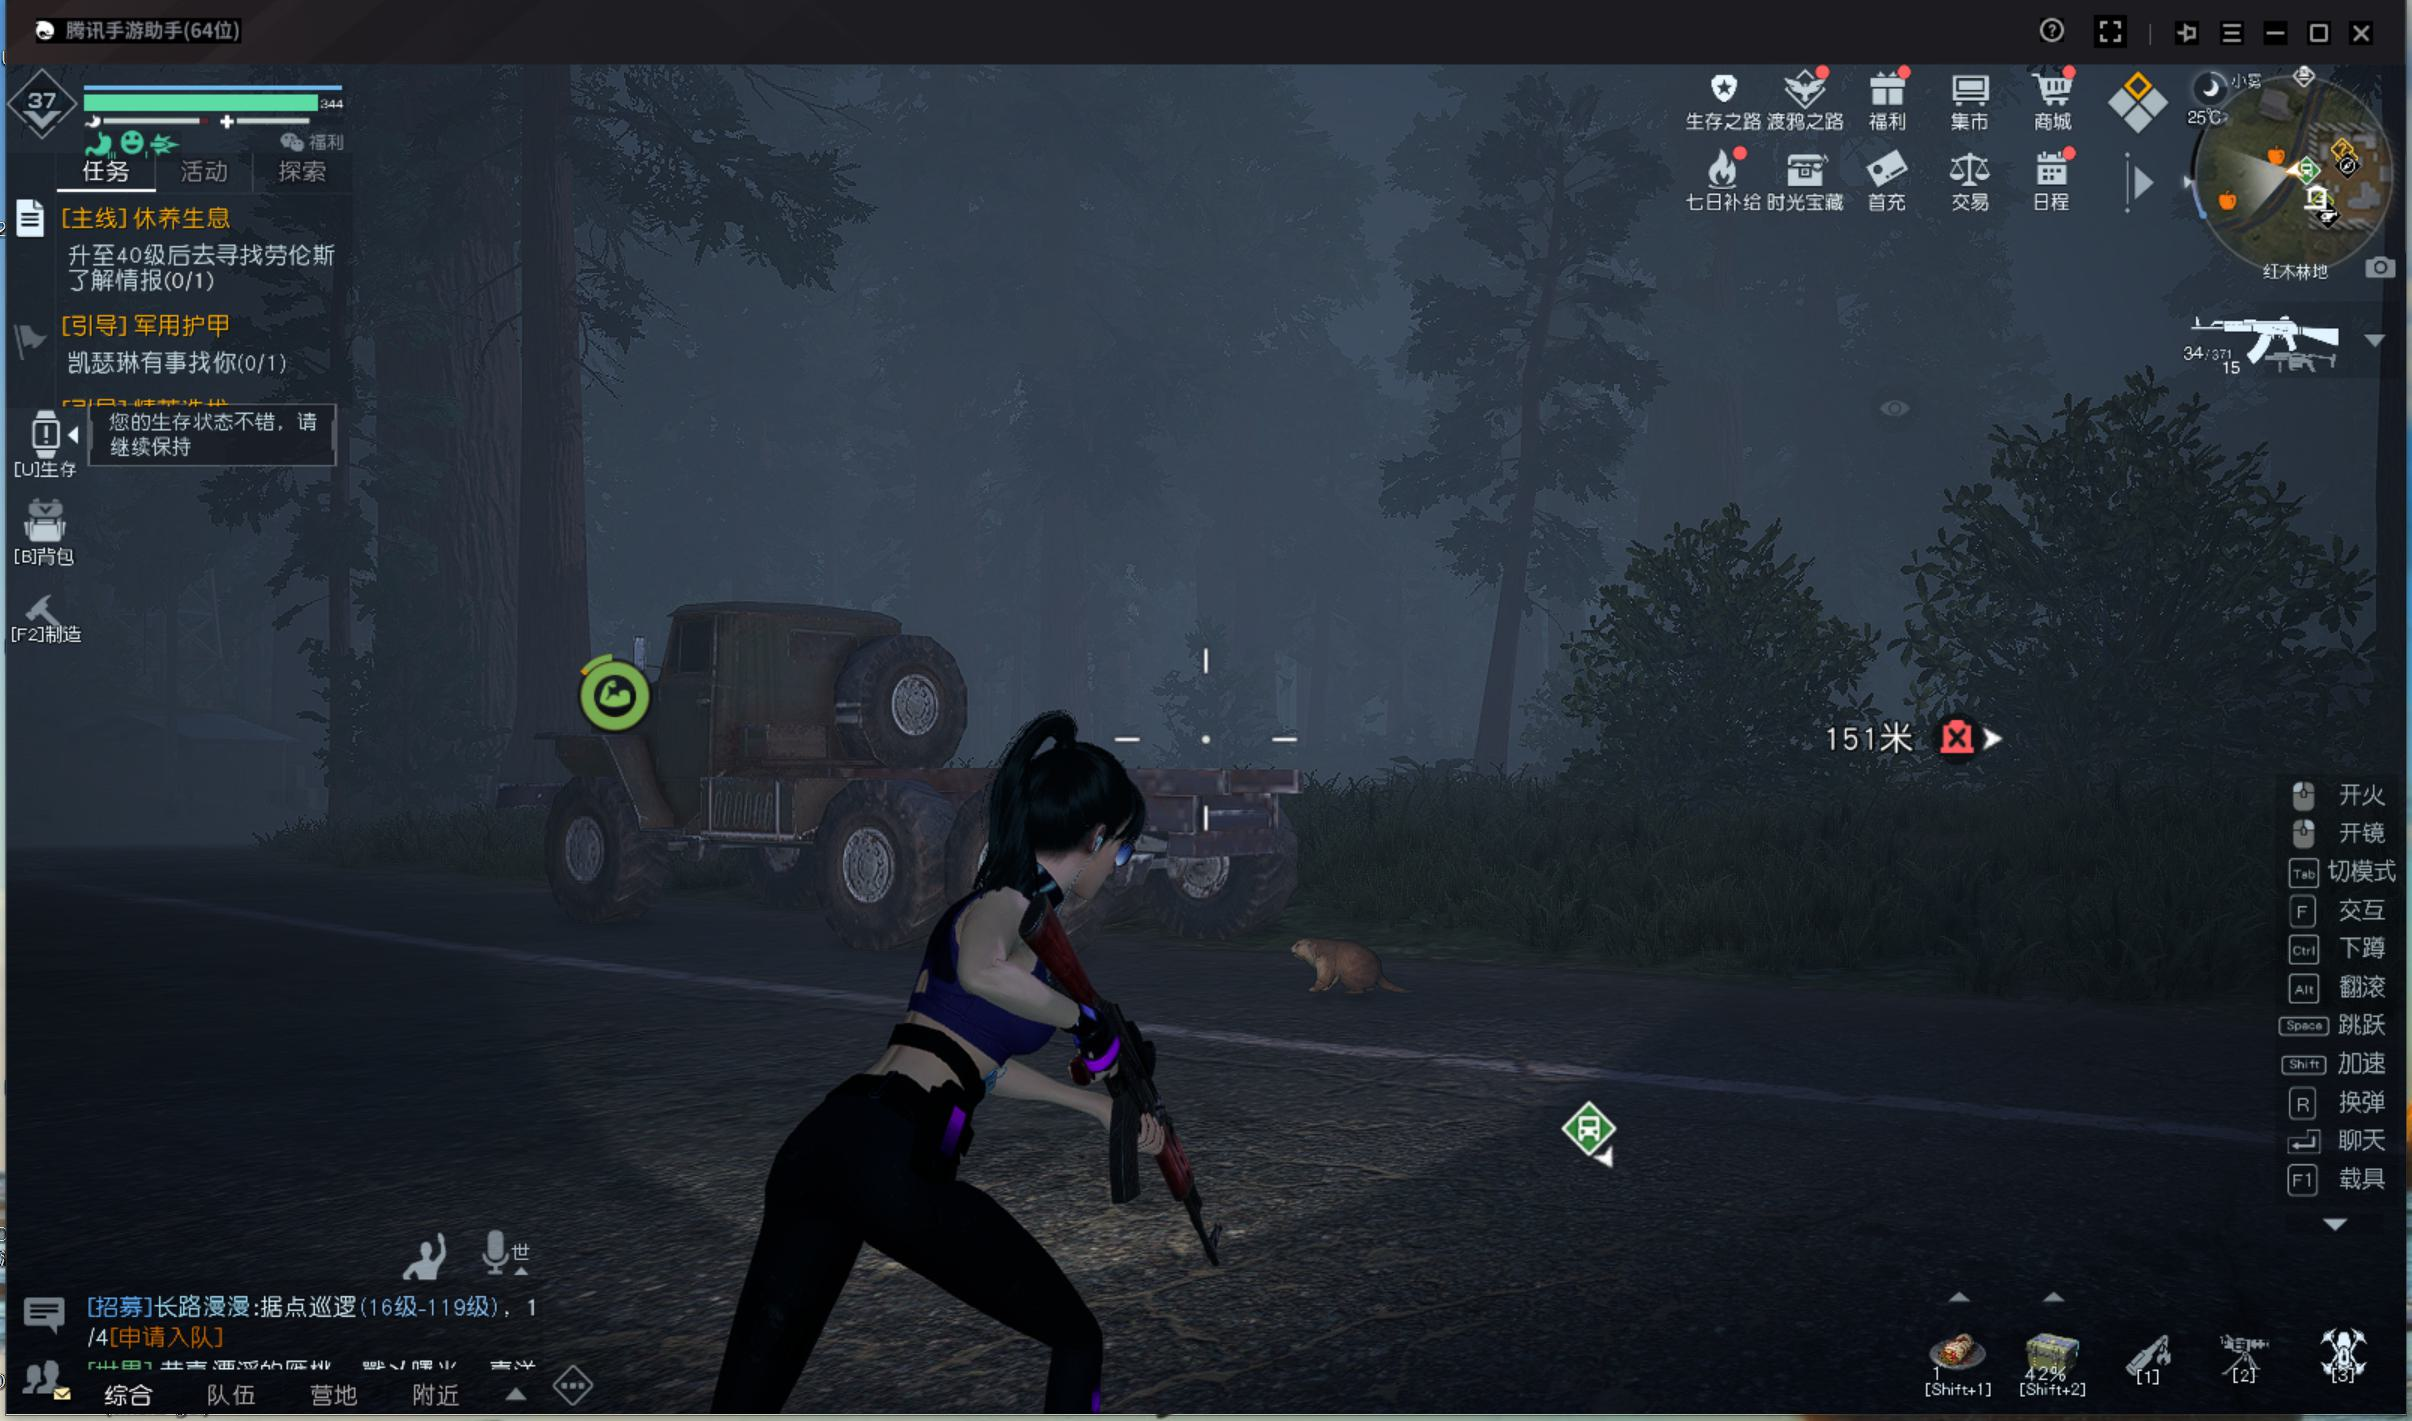tree: (511, 342, 595, 716), (1472, 484, 1532, 797)
